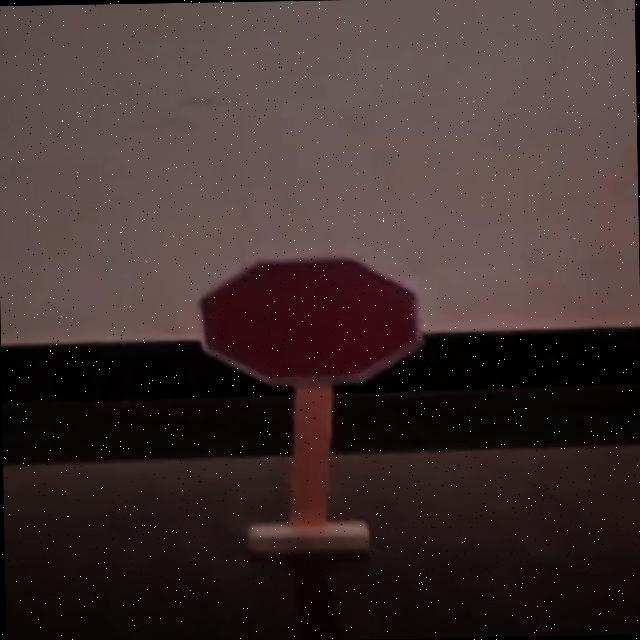Stop: (164, 240, 456, 402)
